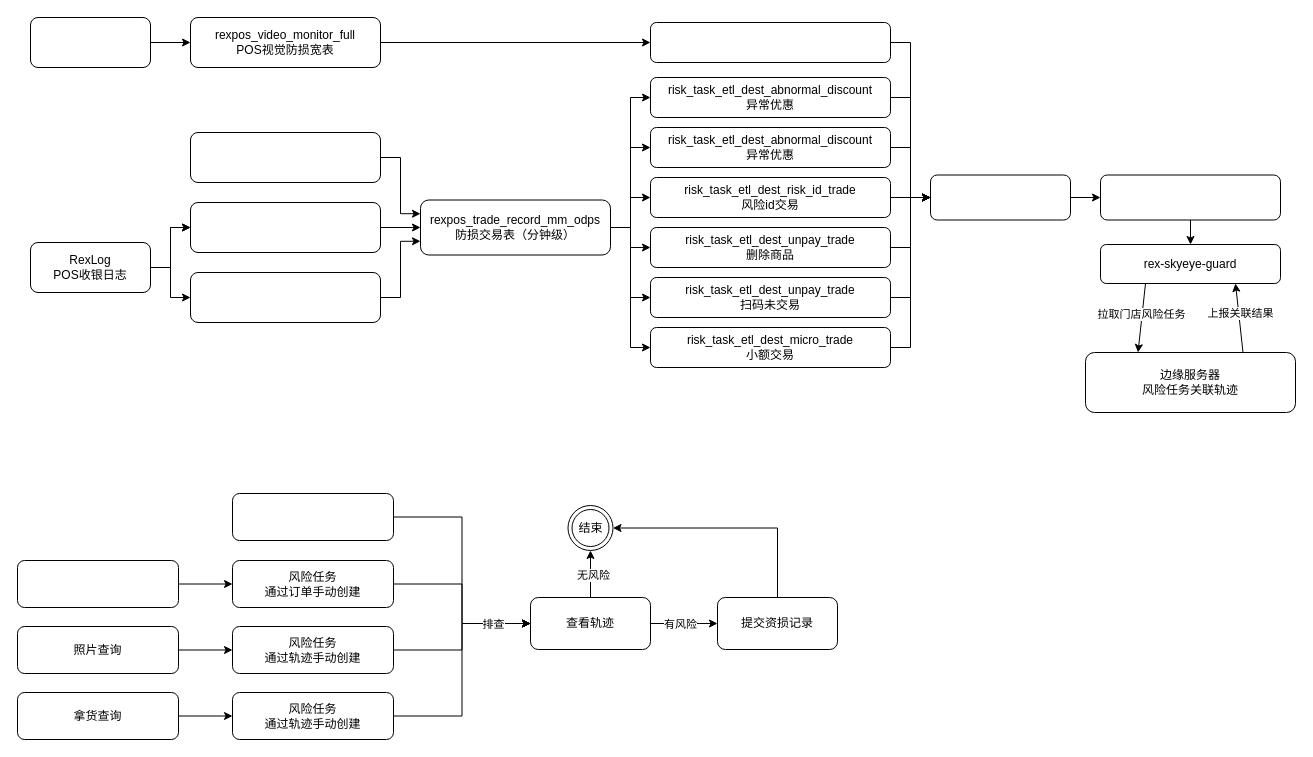
Image size: 1313x757. Some labels were removed from this diagram. Here are the shapes that lost their labels. From the top down, the centre of each, then its label:
pixel 90 42: POS视觉防损 订单
pixel 770 42: risk_task_etl_dest_pos_miss_scan POS漏扫
pixel 285 157: s_device_info 设备基础信息
pixel 1000 197: risk_task_etl_dest 数据归并去重
pixel 1190 197: risk_task_etl_sync_mysql 数据同步到TDDL
pixel 285 227: rexpos_trade_entity_mm_odps POS交易订单
pixel 285 297: s_rexpos_guard_log_mm_delta 收银操作日志
pixel 313 516: 风险任务 （自动生成）
pixel 97 584: 订单查询
